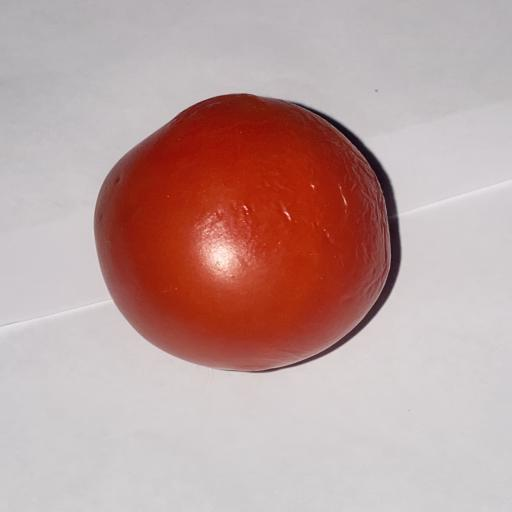spoiled: (95, 94, 390, 371)
